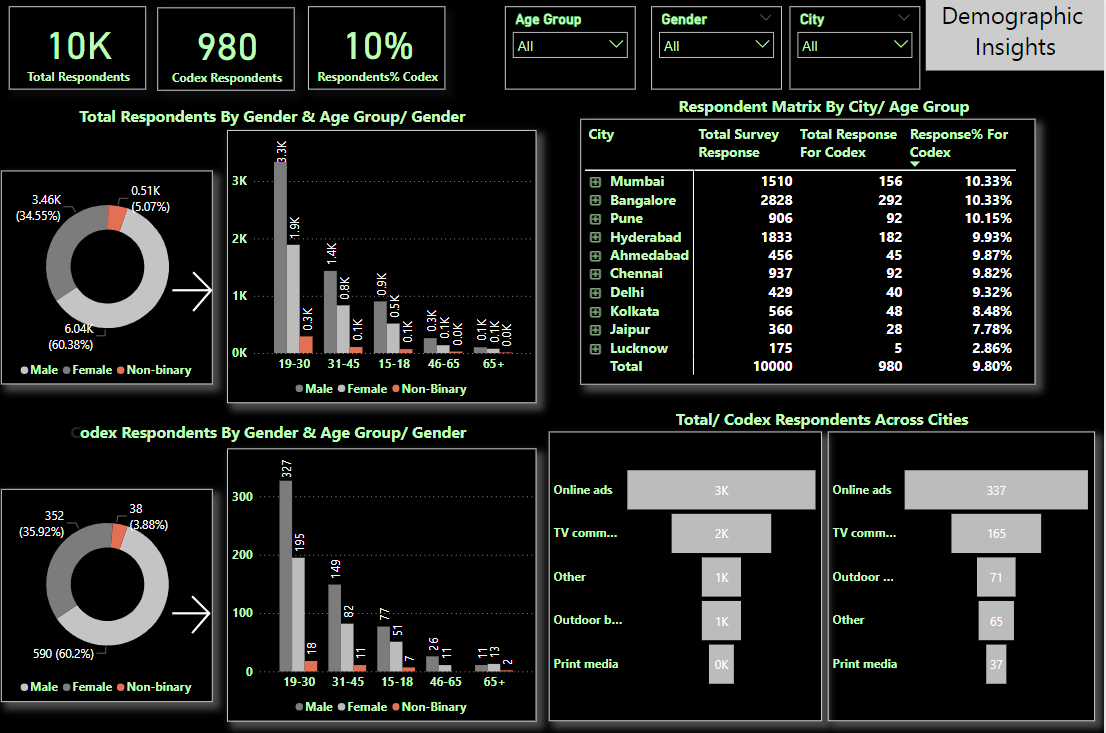

The page's visual inventory and layout, read from the dashboard file:
{"tool":"powerbi","page":{"name":"Dashboard","canvas":[1500,4000],"ordinal":0},"visuals":[{"type":"donutChart","fields":{"Category":["codex dim_respondents.Gender"],"Y":["CountNonNull(codex fact_survey_responses.Response_ID)"]},"box":[16.5,211.8,284.6,287.9],"z":0},{"type":"clusteredColumnChart","fields":{"Y":["CountNonNull(codex fact_survey_responses.Response_ID)"],"Series":["Gender.Gender"],"Category":["Age_Group.age_group"]},"box":[315.7,172.4,417,368.1],"z":1000},{"type":"card","fields":{"Values":["CountNonNull(codex fact_survey_responses.Response_ID)"]},"box":[23.3,16.7,185,111.7],"z":2000},{"type":"clusteredColumnChart","fields":{"Series":["Gender.Gender"],"Category":["Age_Group.age_group"],"Y":["Measure.codex_customer_coount"]},"box":[314.4,598.2,417,368.1],"z":3000},{"type":"pivotTable","fields":{"Rows":["codex dim_cities.City","Age_Group.age_group","Gender.Gender"],"Values":["CountNonNull(codex fact_survey_responses.Response_ID)","Measure.codex_customer_coount","Measure.%Customer_share_codex"]},"box":[794.2,172.1,612.2,359],"z":4000},{"type":"card","fields":{"Values":["Measure.codex_customer_count"]},"box":[223.3,18.3,185,111.7],"z":5000},{"type":"card","fields":{"Values":["Measure.%Customer_share_codex"]},"box":[426.7,16.7,185,111.7],"z":6000},{"type":"donutChart","fields":{"Category":["codex dim_respondents.Gender"],"Y":["CountNonNull(codex fact_survey_responses.Response_ID)"]},"box":[9,652.4,285,286.7],"z":7000},{"type":"slicer","fields":{"Values":["Age_Group.age_group"]},"box":[691.3,17.3,176,112],"z":8000},{"type":"slicer","fields":{"Values":["codex dim_respondents.Gender"]},"box":[889.3,17.3,176,112],"z":9000},{"type":"slicer","fields":{"Values":["codex dim_cities.City"]},"box":[1075.3,17.3,176,112],"z":10000},{"type":"funnel","fields":{"Y":["CountNonNull(codex fact_survey_responses.Response_ID)"],"Category":["codex fact_survey_responses.Marketing_channels"]},"box":[747.4,575.4,368.3,390],"z":11000},{"type":"funnel","fields":{"Category":["codex fact_survey_responses.Marketing_channels"],"Y":["Measure.codex_customer_count"]},"box":[1124,575.4,360,390],"z":12000},{"type":"textbox","box":[22,132.7,710,39],"z":13000},{"type":"textbox","box":[7.4,555.4,723.3,40],"z":14000},{"type":"textbox","box":[747.4,537.1,736.7,40],"z":15000},{"type":"shape","box":[1258.3,0,241.7,103.3],"z":16000},{"type":"textbox","box":[1258.3,0,241.7,103.3],"z":17000},{"type":"actionButton","box":[238.3,317.7,100.9,69.5],"z":18000},{"type":"actionButton","box":[232.4,789,100,65],"z":19000},{"type":"textbox","box":[794.2,134,656.8,40],"z":20000},{"type":"shape","box":[1293.6,1008.5,206.4,102.1],"z":21000},{"type":"textbox","box":[1257.4,1008.5,242.6,102.1],"z":22000},{"type":"clusteredColumnChart","fields":{"Category":["codex fact_survey_responses.Ingredients_expected"],"Y":["CountNonNull(codex fact_survey_responses.Response_ID)"],"Series":["Gender.Gender"]},"box":[651,1174.8,820,413.3],"z":23000},{"type":"treemap","fields":{"Group":["codex fact_survey_responses.Packaging_preference"],"Values":["CountNonNull(codex fact_survey_responses.Response_ID)"]},"box":[17.7,1573.2,601.7,415],"z":24000},{"type":"donutChart","fields":{"Category":["codex fact_survey_responses.Purchase_location"],"Y":["CountNonNull(codex fact_survey_responses.Response_ID)"]},"box":[1066,1648.2,421,340],"z":25000},{"type":"donutChart","fields":{"Category":["codex fact_survey_responses.Typical_consumption_situations"],"Y":["CountNonNull(codex fact_survey_responses.Response_ID)"]},"box":[631,1648.2,421.7,340],"z":26000},{"type":"slicer","fields":{"Values":["Age_Group.age_group"]},"box":[682.3,1023.2,176,112],"z":27000},{"type":"slicer","fields":{"Values":["codex dim_respondents.Gender"]},"box":[880.3,1023.2,176,112],"z":28000},{"type":"slicer","fields":{"Values":["codex dim_cities.City"]},"box":[1066.3,1023.2,176,112],"z":29000},{"type":"ribbonChart","title":"Total Respondents by Price Range ","fields":{"Category":["codex fact_survey_responses.Price_range"],"Y":["CountNonNull(codex fact_survey_responses.Response_ID)"],"Series":["Gender.Gender"]},"box":[17.7,1079.8,601.7,440],"z":30000},{"type":"textbox","box":[17.7,1039.8,601.7,40],"z":31000},{"type":"textbox","box":[651,1134.8,820,40],"z":32000},{"type":"textbox","box":[631,1608.2,856.7,40],"z":33000},{"type":"textbox","box":[17.7,1533.2,601.7,40],"z":34000},{"type":"shape","box":[1258.1,2012,241.7,103.3],"z":35000},{"type":"textbox","box":[1274.8,2012,225,103.3],"z":36000},{"type":"donutChart","fields":{"Y":["CountNonNull(codex fact_survey_responses.Response_ID)"],"Category":["codex fact_survey_responses.Marketing_channels"]},"box":[21.5,2576.1,431.8,410.3],"z":37000},{"type":"slicer","fields":{"Values":["Age_Group.age_group"]},"box":[683.1,2028.7,176,112],"z":38000},{"type":"slicer","fields":{"Values":["codex dim_respondents.Gender"]},"box":[881.1,2028.7,176,112],"z":39000},{"type":"slicer","fields":{"Values":["codex dim_cities.City"]},"box":[1067.1,2028.7,176,112],"z":40000},{"type":"funnel","fields":{"Category":["codex fact_survey_responses.Current_brands"],"Y":["CountNonNull(codex fact_survey_responses.Response_ID)"]},"box":[21.8,2083.7,500,428.3],"z":41000},{"type":"textbox","box":[19.8,2042,502,42],"z":42000},{"type":"pieChart","fields":{"Category":["codex fact_survey_responses.Current_brands"],"Series":["codex fact_survey_responses.Reasons_for_choosing_brands"],"Y":["CountNonNull(codex fact_survey_responses.Response_ID)"]},"box":[542.6,2189.4,544.7,317],"z":43000},{"type":"pieChart","fields":{"Category":["codex fact_survey_responses.Current_brands"],"Series":["codex fact_survey_responses.Reasons_for_choosing_brands"],"Y":["CountNonNull(codex fact_survey_responses.Response_ID)"]},"box":[1102.1,2189.4,383,317],"z":44000},{"type":"textbox","box":[542.6,2140.4,942.6,44.7],"z":45000},{"type":"hundredPercentStackedColumnChart","fields":{"Category":["codex fact_survey_responses.Marketing_channels"],"Y":["CountNonNull(codex fact_survey_responses.Response_ID)"],"Rows":["Age_Group.age_group"],"Series":["codex dim_respondents.Gender"]},"box":[466.6,2552.9,1019.2,433.5],"z":46000},{"type":"textbox","box":[19.1,2510.6,1466,42.6],"z":47000},{"type":"shape","box":[378.7,2740.4,87.2,70.2],"z":48000},{"type":"donutChart","fields":{"Y":["CountNonNull(codex fact_survey_responses.Response_ID)"],"Category":["codex fact_survey_responses.Consume_frequency"]},"box":[512.8,3183,314.9,197.9],"z":49000},{"type":"slicer","fields":{"Values":["Age_Group.age_group"]},"box":[690.9,3021.6,176,112],"z":50000},{"type":"slicer","fields":{"Values":["codex dim_respondents.Gender"]},"box":[888.9,3021.6,176,112],"z":51000},{"type":"slicer","fields":{"Values":["codex dim_cities.City"]},"box":[1074.9,3021.6,176,112],"z":52000},{"type":"pivotTable","fields":{"Rows":["codex dim_cities.City","Age_Group.age_group","Gender.Gender"],"Values":["CountNonNull(codex fact_survey_responses.Response_ID)"],"Columns":["codex fact_survey_responses.Brand_perception"]},"box":[21.3,3288.2,478.3,325],"z":53000},{"type":"textbox","box":[19.6,3246.6,480,41.7],"z":54000},{"type":"donutChart","fields":{"Category":["codex fact_survey_responses.Brand_perception"],"Y":["CountNonNull(codex fact_survey_responses.Response_ID)"]},"box":[1170.2,3183,314.9,197.9],"z":55000},{"type":"textbox","box":[1170.2,3144.7,317,40],"z":56000},{"type":"textbox","box":[827.7,3140.4,342.6,42.6],"z":57000},{"type":"donutChart","fields":{"Category":["codex fact_survey_responses.General_perception"],"Y":["CountNonNull(codex fact_survey_responses.Response_ID)"]},"box":[838.3,3183,314.9,197.9],"z":58000},{"type":"textbox","box":[512.8,3140.4,314.9,42.6],"z":59000},{"type":"card","fields":{"Values":["CountNonNull(codex fact_survey_responses.Response_ID)"]},"box":[19.6,3020.9,201,99],"z":60000},{"type":"card","fields":{"Values":["Measure.nonbinary_respondents_codex"]},"box":[234.6,3133.2,200,98.3],"z":61000},{"type":"card","fields":{"Values":["Measure.female_respondents_codex"]},"box":[21.3,3133.2,200,100],"z":62000},{"type":"card","fields":{"Values":["Measure.male_respondents_codex"]},"box":[234.6,3023.2,200,98.3],"z":63000},{"type":"pieChart","fields":{"Category":["codex fact_survey_responses.Current_brands"],"Series":["codex fact_survey_responses.Reasons_for_choosing_brands"],"Y":["CountNonNull(codex fact_survey_responses.Response_ID)"]},"box":[549.6,3427.9,423.3,218.3],"z":64000},{"type":"pieChart","fields":{"Category":["codex fact_survey_responses.Current_brands"],"Y":["CountNonNull(codex fact_survey_responses.Response_ID)"],"Series":["codex fact_survey_responses.Reasons_preventing_trying"]},"box":[1027.9,3427.9,423.3,218.3],"z":65000},{"type":"textbox","box":[974.6,3522.9,48.3,50],"z":66000},{"type":"textbox","box":[550.1,3391.2,423.3,40],"z":67000},{"type":"textbox","box":[1027.9,3384.6,423.3,40],"z":68000},{"type":"funnel","fields":{"Category":["codex fact_survey_responses.Ingredients_expected"],"Y":["CountNonNull(codex fact_survey_responses.Response_ID)"]},"box":[19.6,3666.6,478.3,325],"z":69000},{"type":"textbox","box":[16,3632,480,40],"z":70000},{"type":"ribbonChart","title":"Total Respondents by Price Range ","fields":{"Category":["codex fact_survey_responses.Price_range"],"Y":["CountNonNull(codex fact_survey_responses.Response_ID)"],"Series":["Gender.Gender"]},"box":[510.6,3704.3,483,287.2],"z":71000},{"type":"ribbonChart","title":"Total Respondents by Price Range ","fields":{"Y":["CountNonNull(codex fact_survey_responses.Response_ID)"],"Series":["Gender.Gender"],"Category":["codex fact_survey_responses.Reasons_for_choosing_brands"]},"box":[1013.3,3704.9,470,286.7],"z":72000},{"type":"textbox","box":[512,3668,972,40],"z":73000},{"type":"shape","box":[1258,3013.8,241,104],"z":74000},{"type":"textbox","box":[1271.7,3014.1,228.3,103.3],"z":75000}]}

Visuals, with their boxes on the page's 1500x4000 design canvas (x1, y1, x2, y2). These are canvas units, not pixel positions in the 1106x733 screenshot, which may show the page scaled, cropped or inside an application window:
donutChart - codex dim_respondents.Gender x CountNonNull(codex fact_survey_responses.Response_ID): [16, 212, 301, 500]
clusteredColumnChart - CountNonNull(codex fact_survey_responses.Response_ID) x Gender.Gender: [316, 172, 733, 540]
card - CountNonNull(codex fact_survey_responses.Response_ID): [23, 17, 208, 128]
clusteredColumnChart - Gender.Gender x Age_Group.age_group: [314, 598, 731, 966]
pivotTable - codex dim_cities.City x Age_Group.age_group: [794, 172, 1406, 531]
card - Measure.codex_customer_count: [223, 18, 408, 130]
card - Measure.%Customer_share_codex: [427, 17, 612, 128]
donutChart - codex dim_respondents.Gender x CountNonNull(codex fact_survey_responses.Response_ID): [9, 652, 294, 939]
slicer - Age_Group.age_group: [691, 17, 867, 129]
slicer - codex dim_respondents.Gender: [889, 17, 1065, 129]
slicer - codex dim_cities.City: [1075, 17, 1251, 129]
funnel - CountNonNull(codex fact_survey_responses.Response_ID) x codex fact_survey_responses.Marketing_channels: [747, 575, 1116, 965]
funnel - codex fact_survey_responses.Marketing_channels x Measure.codex_customer_count: [1124, 575, 1484, 965]
textbox: [22, 133, 732, 172]
textbox: [7, 555, 731, 595]
textbox: [747, 537, 1484, 577]
shape: [1258, 0, 1500, 103]
textbox: [1258, 0, 1500, 103]
actionButton: [238, 318, 339, 387]
actionButton: [232, 789, 332, 854]
textbox: [794, 134, 1451, 174]
shape: [1294, 1008, 1500, 1111]
textbox: [1257, 1008, 1500, 1111]
clusteredColumnChart - codex fact_survey_responses.Ingredients_expected x CountNonNull(codex fact_survey_responses.Response_ID): [651, 1175, 1471, 1588]
treemap - codex fact_survey_responses.Packaging_preference x CountNonNull(codex fact_survey_responses.Response_ID): [18, 1573, 619, 1988]
donutChart - codex fact_survey_responses.Purchase_location x CountNonNull(codex fact_survey_responses.Response_ID): [1066, 1648, 1487, 1988]
donutChart - codex fact_survey_responses.Typical_consumption_situations x CountNonNull(codex fact_survey_responses.Response_ID): [631, 1648, 1053, 1988]
slicer - Age_Group.age_group: [682, 1023, 858, 1135]
slicer - codex dim_respondents.Gender: [880, 1023, 1056, 1135]
slicer - codex dim_cities.City: [1066, 1023, 1242, 1135]
"Total Respondents by Price Range " ribbonChart: [18, 1080, 619, 1520]
textbox: [18, 1040, 619, 1080]
textbox: [651, 1135, 1471, 1175]
textbox: [631, 1608, 1488, 1648]
textbox: [18, 1533, 619, 1573]
shape: [1258, 2012, 1500, 2115]
textbox: [1275, 2012, 1500, 2115]
donutChart - CountNonNull(codex fact_survey_responses.Response_ID) x codex fact_survey_responses.Marketing_channels: [22, 2576, 453, 2986]
slicer - Age_Group.age_group: [683, 2029, 859, 2141]
slicer - codex dim_respondents.Gender: [881, 2029, 1057, 2141]
slicer - codex dim_cities.City: [1067, 2029, 1243, 2141]
funnel - codex fact_survey_responses.Current_brands x CountNonNull(codex fact_survey_responses.Response_ID): [22, 2084, 522, 2512]
textbox: [20, 2042, 522, 2084]
pieChart - codex fact_survey_responses.Current_brands x codex fact_survey_responses.Reasons_for_choosing_brands: [543, 2189, 1087, 2506]
pieChart - codex fact_survey_responses.Current_brands x codex fact_survey_responses.Reasons_for_choosing_brands: [1102, 2189, 1485, 2506]
textbox: [543, 2140, 1485, 2185]
hundredPercentStackedColumnChart - codex fact_survey_responses.Marketing_channels x CountNonNull(codex fact_survey_responses.Response_ID): [467, 2553, 1486, 2986]
textbox: [19, 2511, 1485, 2553]
shape: [379, 2740, 466, 2811]
donutChart - CountNonNull(codex fact_survey_responses.Response_ID) x codex fact_survey_responses.Consume_frequency: [513, 3183, 828, 3381]
slicer - Age_Group.age_group: [691, 3022, 867, 3134]
slicer - codex dim_respondents.Gender: [889, 3022, 1065, 3134]
slicer - codex dim_cities.City: [1075, 3022, 1251, 3134]
pivotTable - codex dim_cities.City x Age_Group.age_group: [21, 3288, 500, 3613]
textbox: [20, 3247, 500, 3288]
donutChart - codex fact_survey_responses.Brand_perception x CountNonNull(codex fact_survey_responses.Response_ID): [1170, 3183, 1485, 3381]
textbox: [1170, 3145, 1487, 3185]
textbox: [828, 3140, 1170, 3183]
donutChart - codex fact_survey_responses.General_perception x CountNonNull(codex fact_survey_responses.Response_ID): [838, 3183, 1153, 3381]
textbox: [513, 3140, 828, 3183]
card - CountNonNull(codex fact_survey_responses.Response_ID): [20, 3021, 221, 3120]
card - Measure.nonbinary_respondents_codex: [235, 3133, 435, 3232]
card - Measure.female_respondents_codex: [21, 3133, 221, 3233]
card - Measure.male_respondents_codex: [235, 3023, 435, 3122]
pieChart - codex fact_survey_responses.Current_brands x codex fact_survey_responses.Reasons_for_choosing_brands: [550, 3428, 973, 3646]
pieChart - codex fact_survey_responses.Current_brands x CountNonNull(codex fact_survey_responses.Response_ID): [1028, 3428, 1451, 3646]
textbox: [975, 3523, 1023, 3573]
textbox: [550, 3391, 973, 3431]
textbox: [1028, 3385, 1451, 3425]
funnel - codex fact_survey_responses.Ingredients_expected x CountNonNull(codex fact_survey_responses.Response_ID): [20, 3667, 498, 3992]
textbox: [16, 3632, 496, 3672]
"Total Respondents by Price Range " ribbonChart: [511, 3704, 994, 3992]
"Total Respondents by Price Range " ribbonChart: [1013, 3705, 1483, 3992]
textbox: [512, 3668, 1484, 3708]
shape: [1258, 3014, 1499, 3118]
textbox: [1272, 3014, 1500, 3117]
